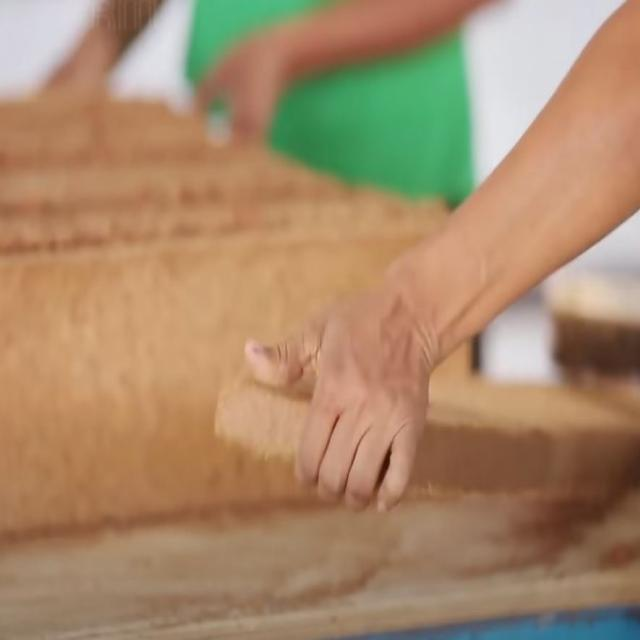bare_hand: (237, 274, 447, 528)
